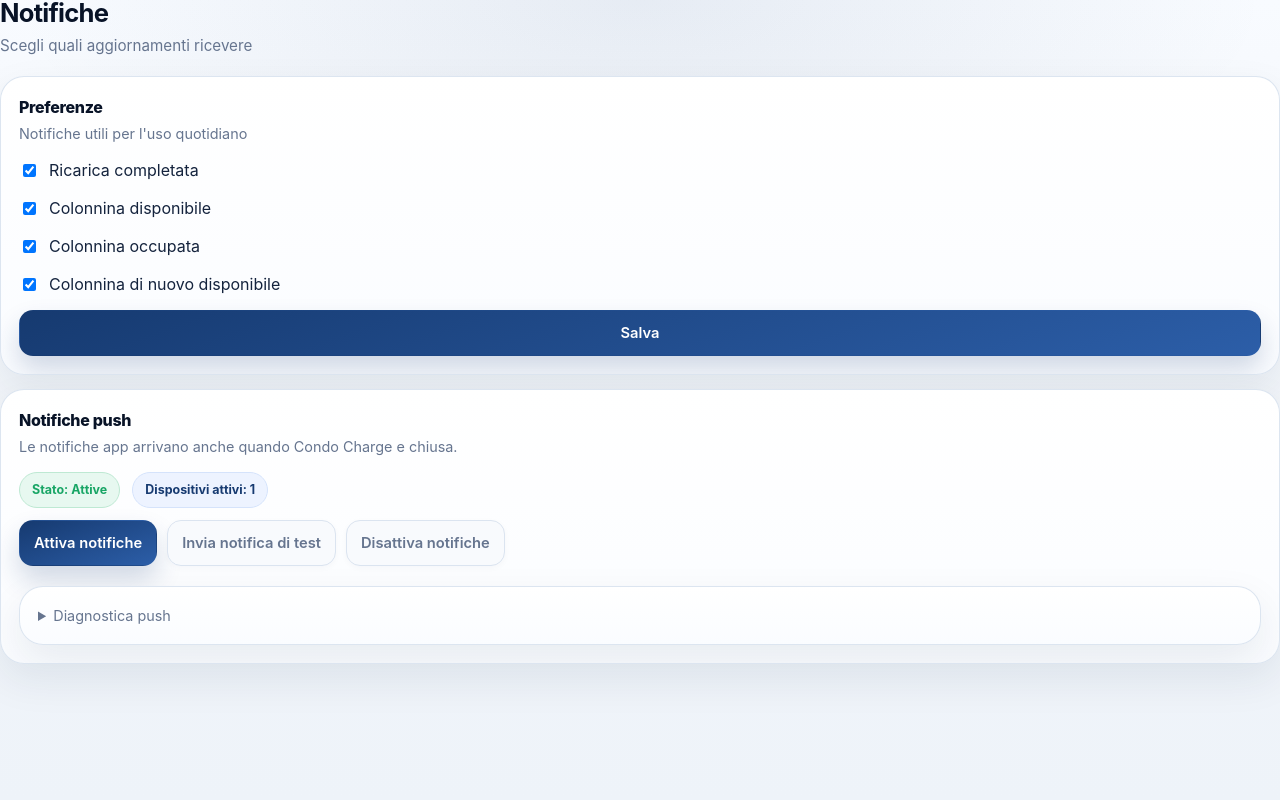
Test case: ResidentNotificationsPage › shows error feedback when push test fails
Click the button "Invia notifica di test".
click(252, 543)  # box [167, 520, 336, 566]
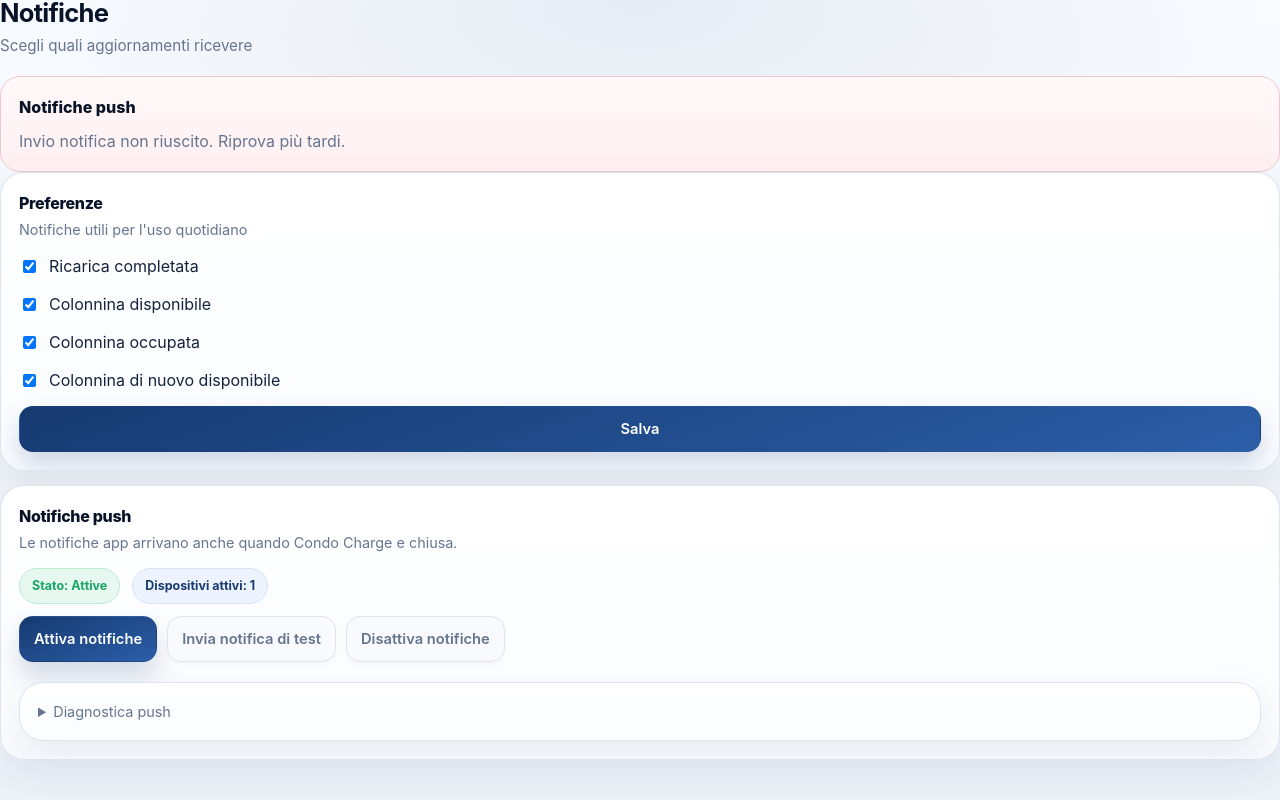
Expected: the text "Invio notifica non riuscito. Riprova più tardi." is shown, [19, 131, 345, 151]
